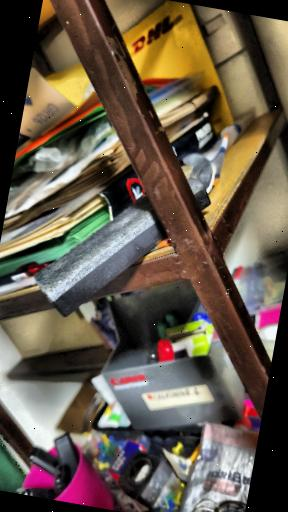borrador: (35, 199, 168, 316), (188, 180, 210, 210)
